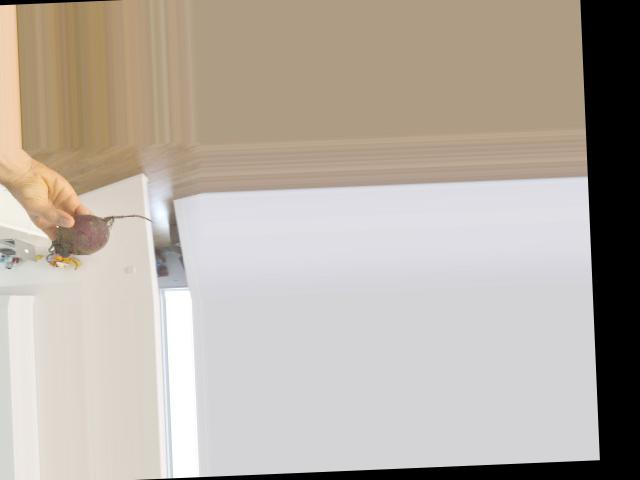beet: (48, 211, 154, 257)
